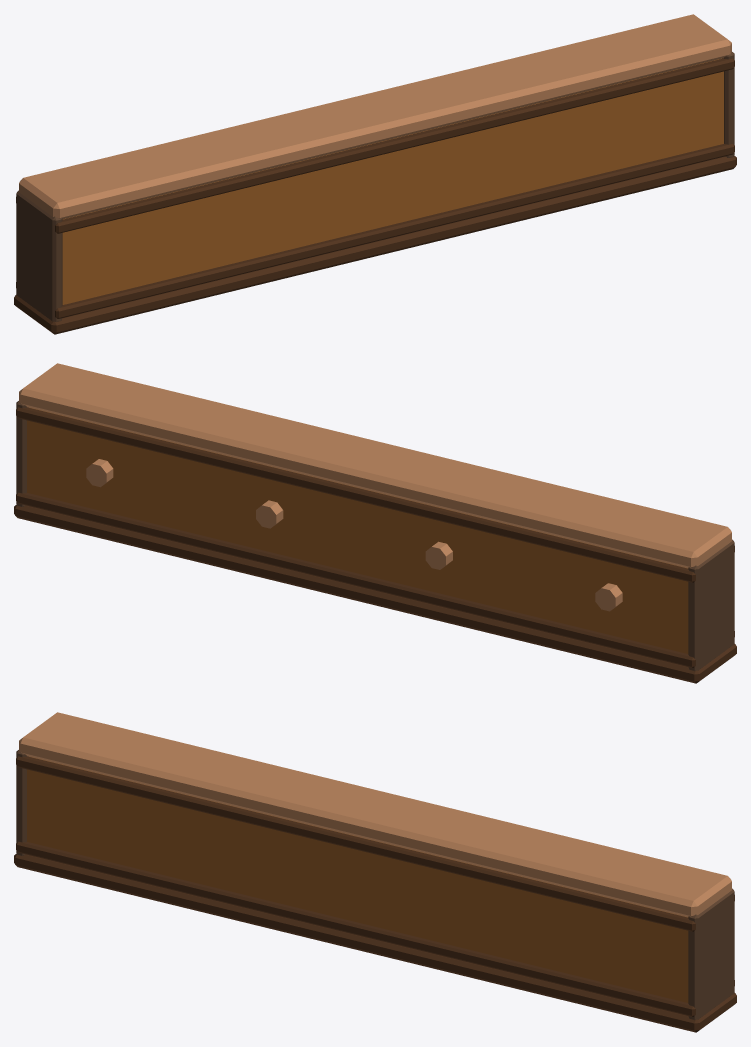
The model's file is CopperTrim4.glb.
3 renders of one model, top to bottom at view 1: azimuth 30°, elevation 25°; view 2: azimuth 150°, elevation 25°; view 3: azimuth 330°, elevation 25°, orthographic.
Parts seen in each view (by area): view 1: Body; view 2: Body; view 3: Body.
Boxes of the visible parts, x1,y1,x2,y2 form: Body: (14, 14, 736, 334); Body: (14, 363, 736, 683); Body: (14, 712, 736, 1032).
Size of what is drawn, in the model's own units: 4.04 by 0.73 by 0.465.
